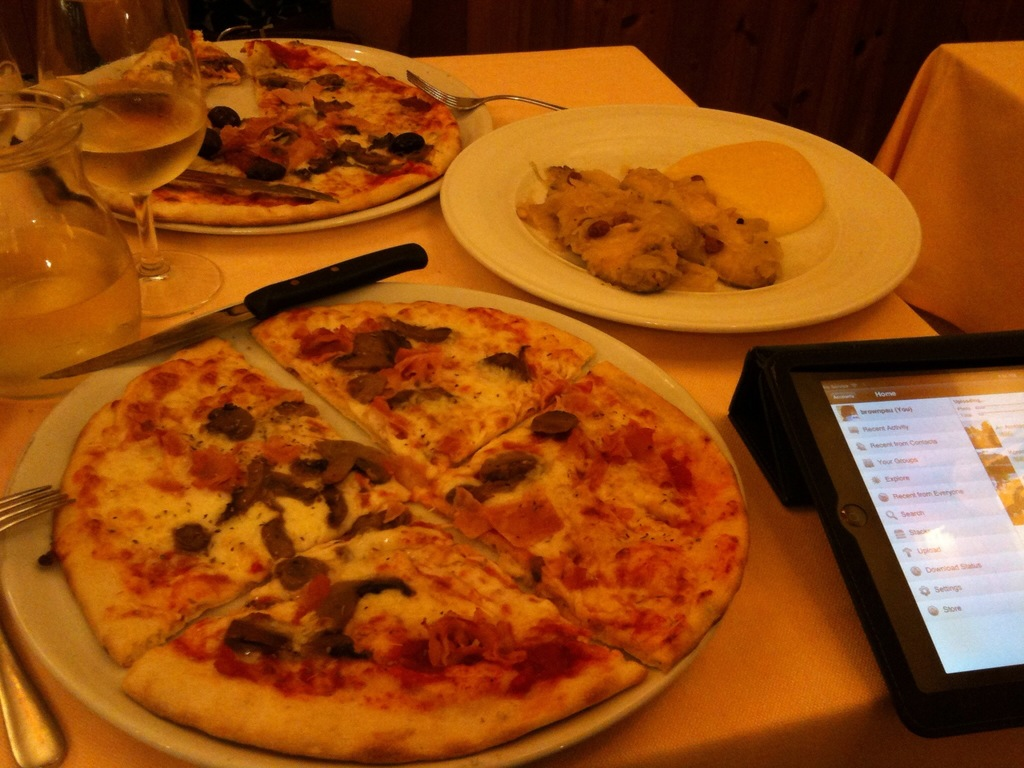Pizza: (112, 509, 643, 767), (58, 325, 425, 664), (426, 350, 746, 665), (55, 37, 439, 210), (288, 303, 618, 499)
